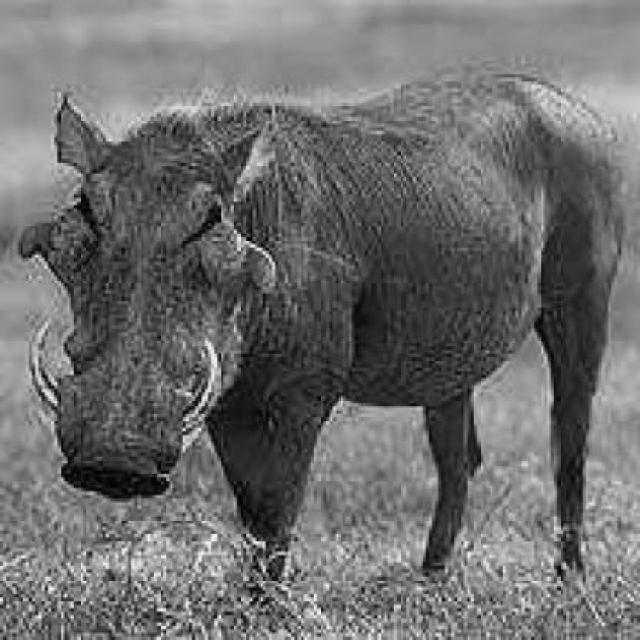Boar: (40, 29, 578, 571)
